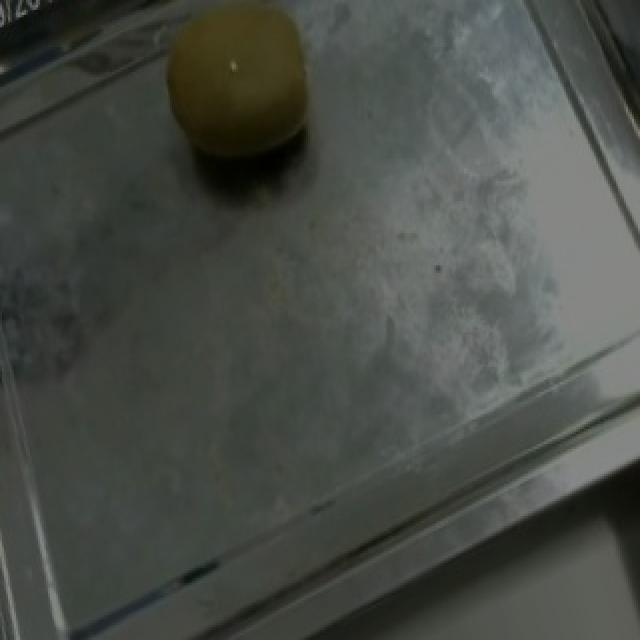Fruit: (132, 0, 350, 221)
